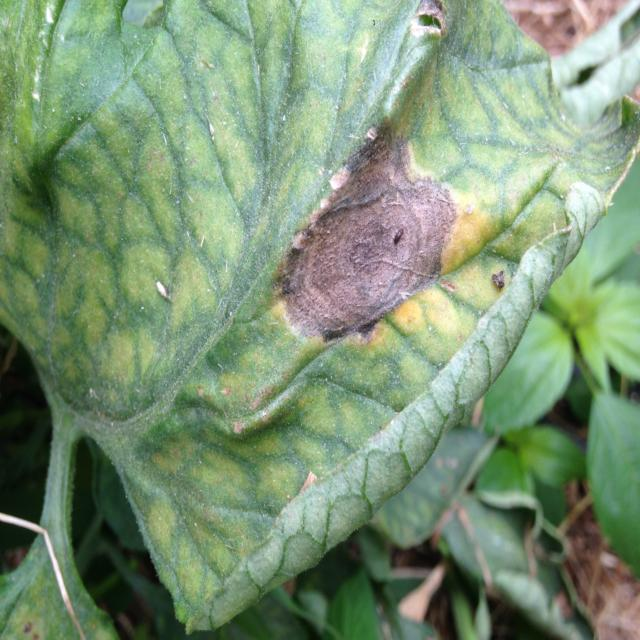Early_blight: (272, 114, 463, 350)
